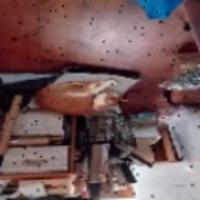asleep: (33, 77, 128, 117)
